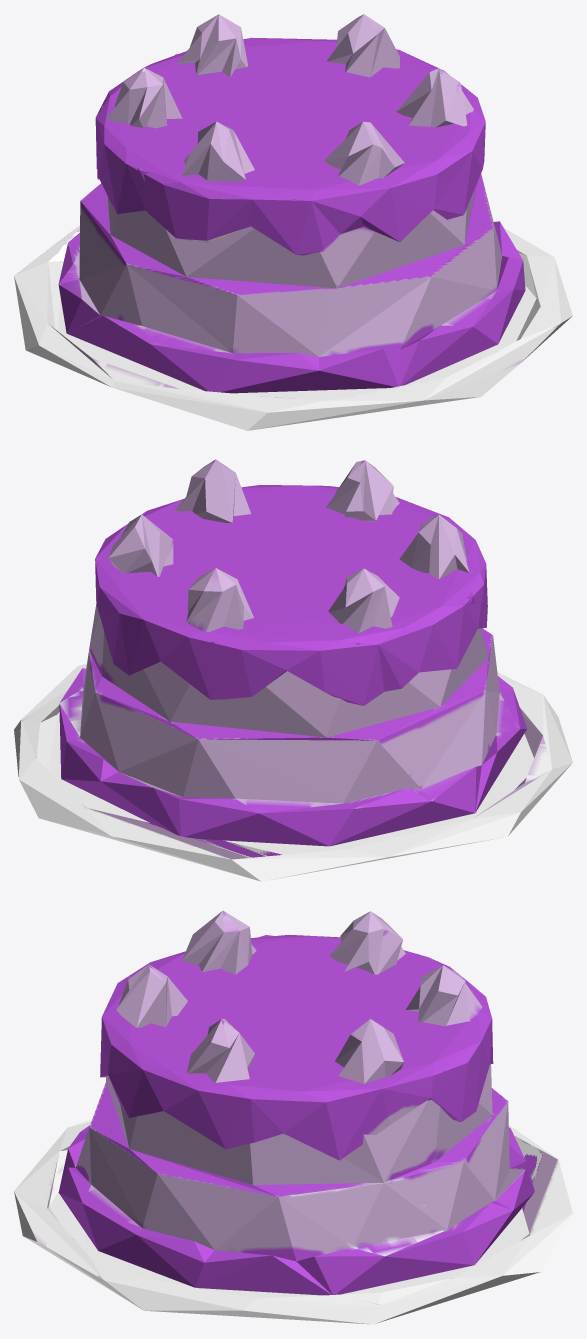
Rendered from Cake.fbx.
The picture shows the model from 3 angles, top to bottom: view 1: azimuth 30°, elevation 25°; view 2: azimuth 150°, elevation 25°; view 3: azimuth 270°, elevation 25°; orthographic projection.
Parts seen in each view (by area): view 1: Cylinder_low; view 2: Cylinder_low; view 3: Cylinder_low.
Part boxes in pixels (<box>): Cylinder_low: <box>14,14,572,430</box>; Cylinder_low: <box>14,459,572,881</box>; Cylinder_low: <box>14,910,572,1324</box>.
Bounding box in the file's own units: 190 × 192 × 93.13.
1 material, 1 textured.
